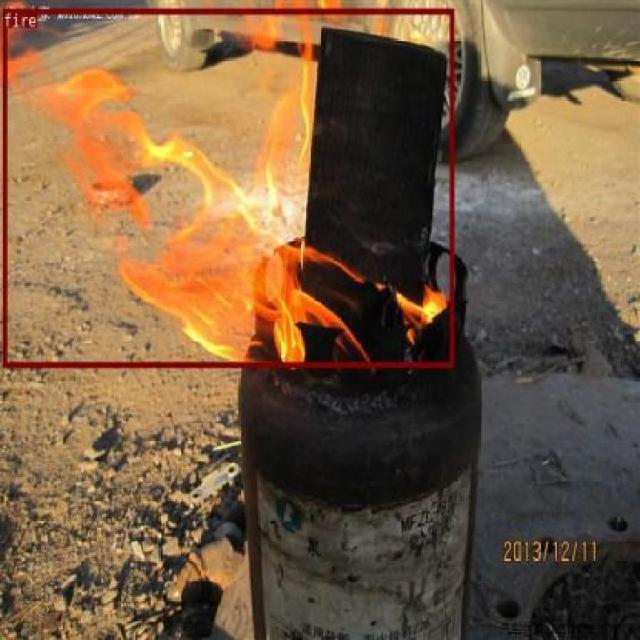Fire: (14, 12, 446, 360)
